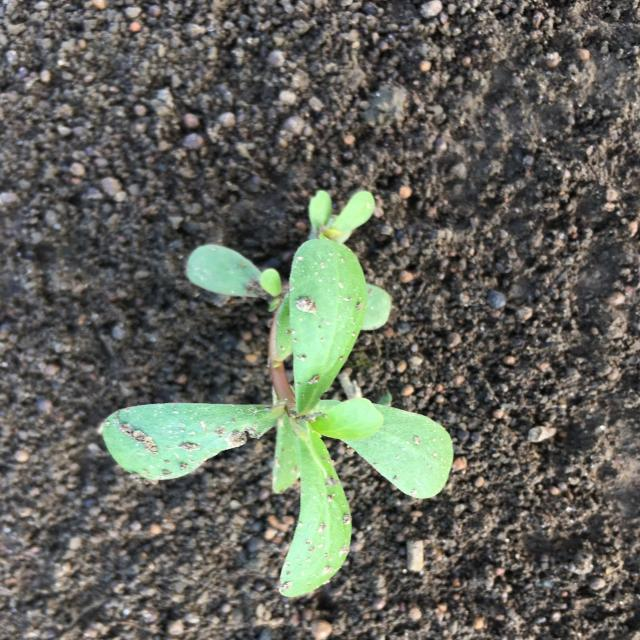Purslane: (102, 190, 454, 596)
